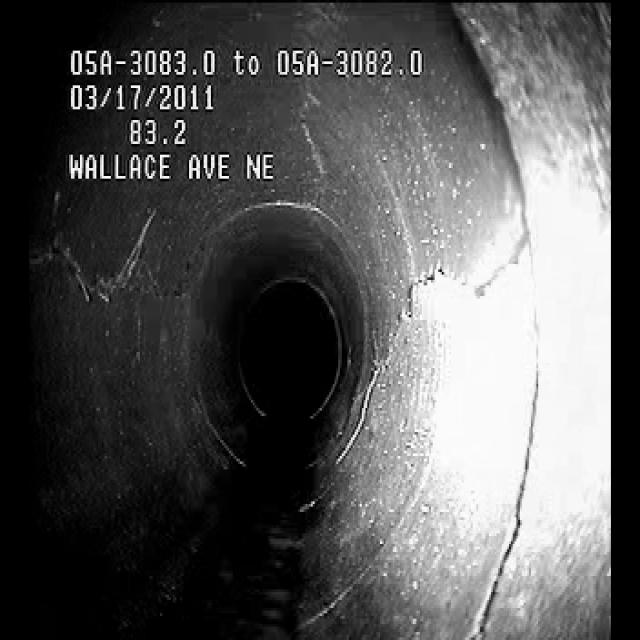Crack: (394, 196, 540, 358), (39, 206, 194, 328), (489, 352, 553, 638)
